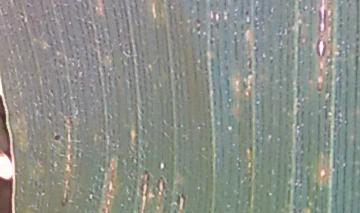tarspot: (52, 131, 61, 145)
